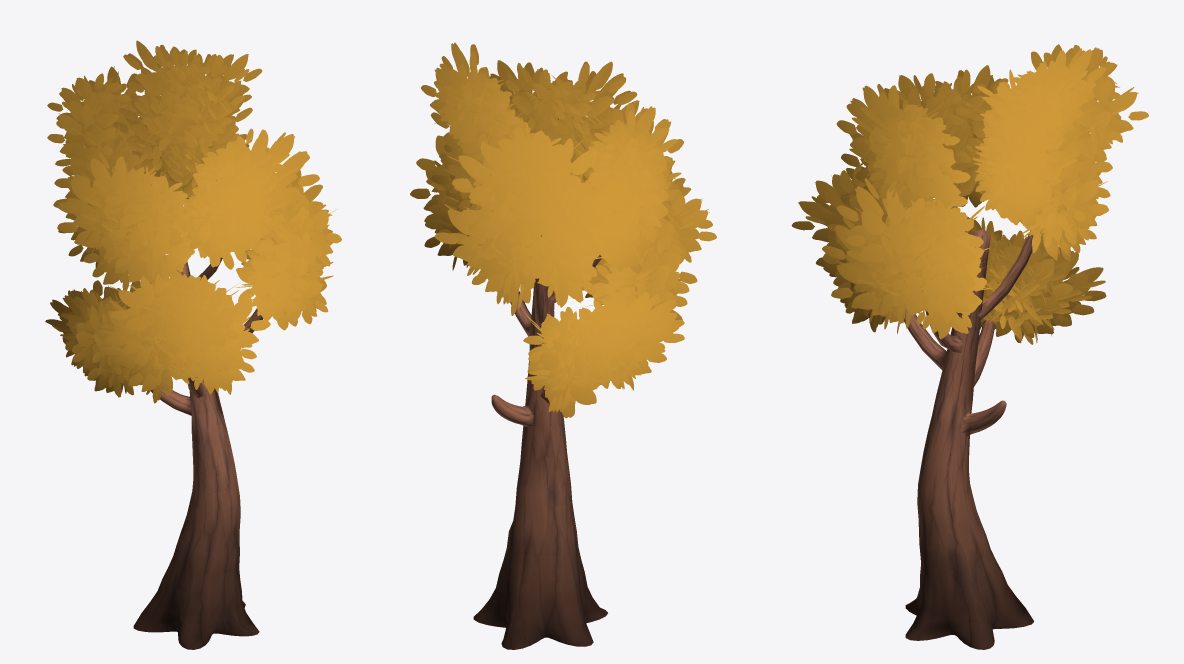
File: commontree_5_autumn.gltf
The picture shows the model from 3 angles, left to right: view 1: azimuth 30°, elevation 25°; view 2: azimuth 150°, elevation 25°; view 3: azimuth 270°, elevation 25°; orthographic projection. The views are drawn at different scales.
Parts seen in each view (by area): view 1: commontree_5_autumn; view 2: commontree_5_autumn; view 3: commontree_5_autumn.
Boxes of the visible parts, box(x1,y1,x2,y2) form: commontree_5_autumn: box(45, 40, 341, 649); commontree_5_autumn: box(410, 42, 716, 649); commontree_5_autumn: box(791, 44, 1148, 649).
Bounding box in the file's own units: 3.67 × 7.01 × 4.22.
2 materials, 2 textured.
